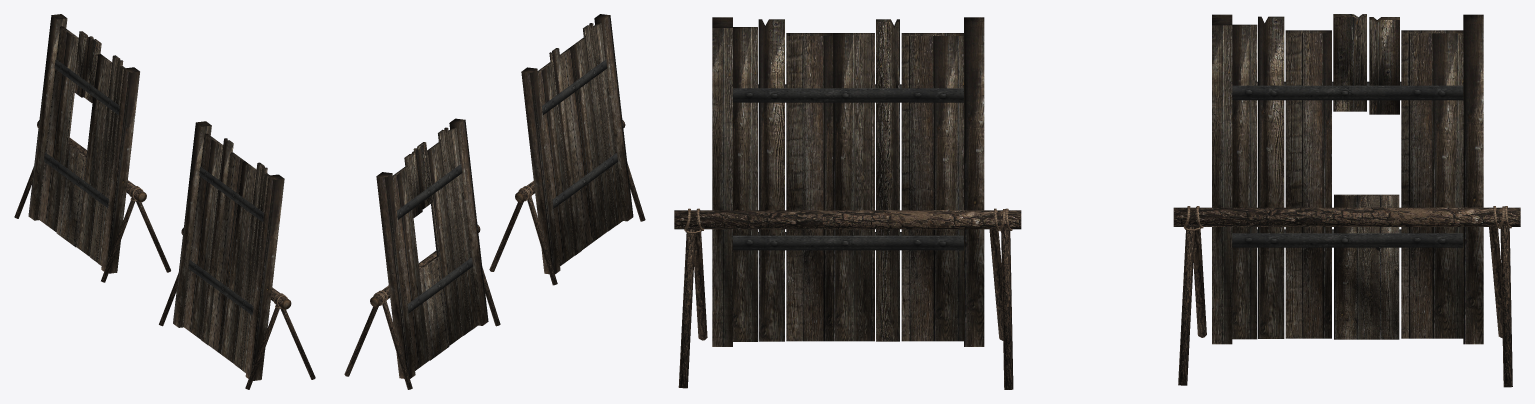
File: barricade.glb
The picture shows the model from 3 angles, left to right: view 1: azimuth 30°, elevation 25°; view 2: azimuth 150°, elevation 25°; view 3: azimuth 270°, elevation 25°; orthographic projection. The views are drawn at different scales.
Parts seen in each view (by area): view 1: barricades; view 2: barricades; view 3: barricades.
Boxes of the visible parts, x1,y1,x2,y2 form: barricades: (14, 14, 315, 389); barricades: (344, 14, 645, 389); barricades: (674, 14, 1520, 389).
Size of the model in its own units: 60.4 by 177 by 385.
1 material, 1 textured.
